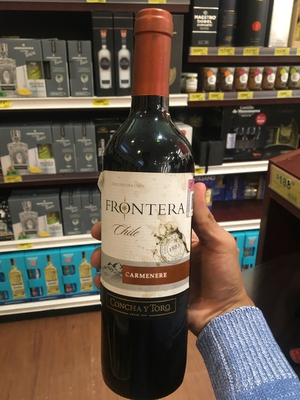frontera carmenere: (88, 10, 207, 391)
